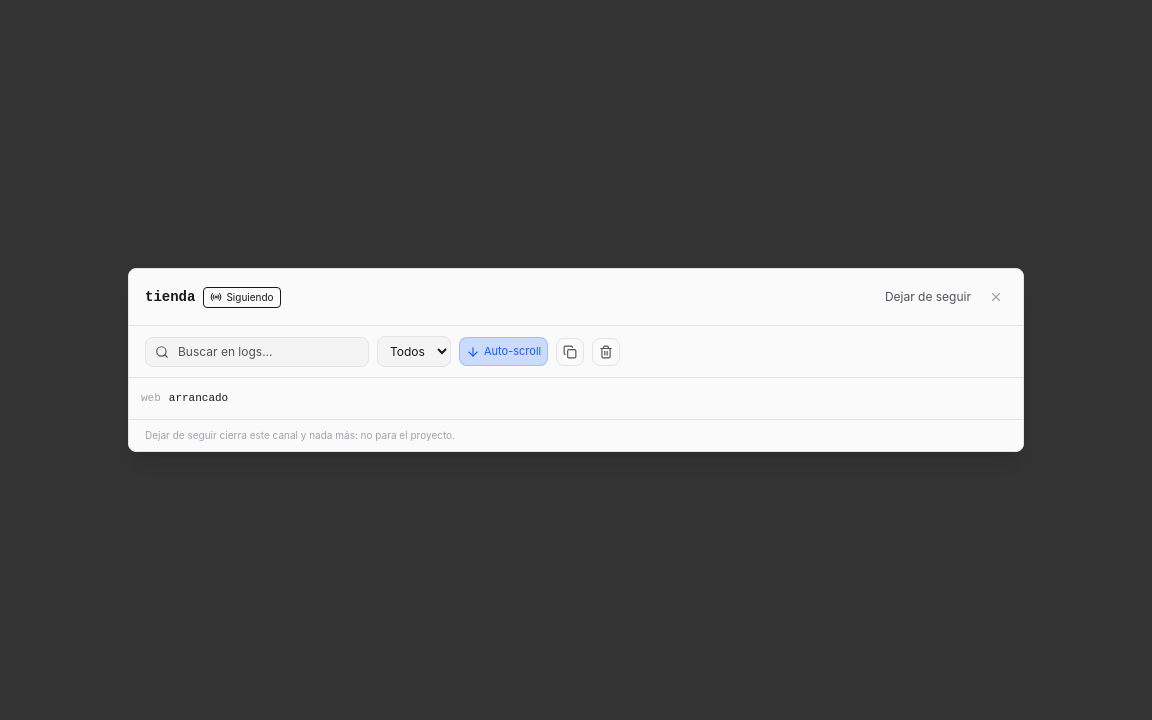
ComposeLogsViewer › avisa de que no hay líneas que coincidan
Type "no-existe-esto" into the field with placeholder "Buscar en logs..." at (257, 352), box [145, 337, 369, 367]
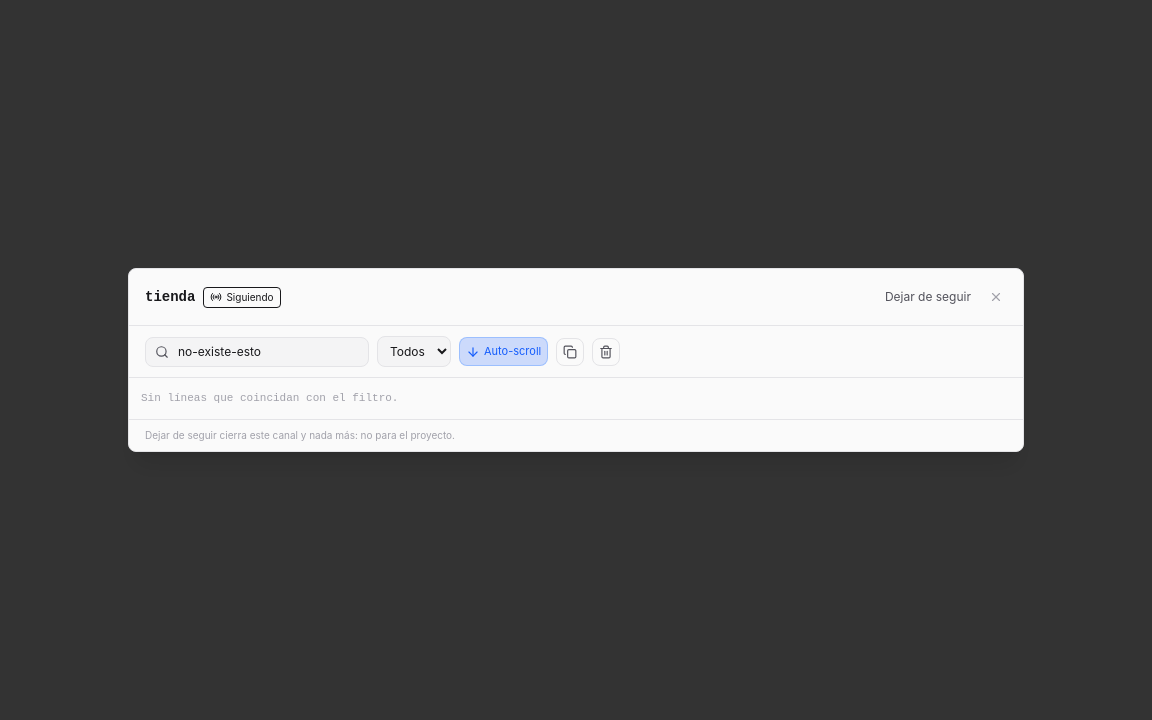
Now the text "Sin líneas que coincidan con el filtro." is shown, box [141, 392, 398, 404]
